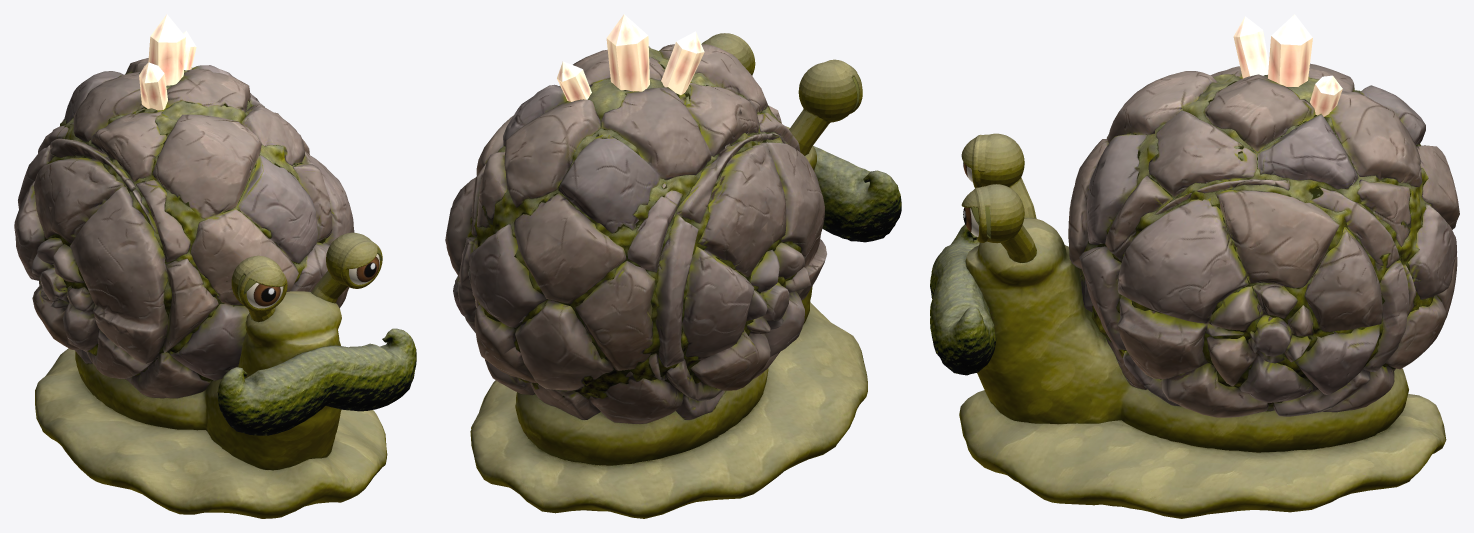
Rendered from rock_snail_mossy.glb.
The picture shows the model from 3 angles, left to right: view 1: azimuth 30°, elevation 25°; view 2: azimuth 150°, elevation 25°; view 3: azimuth 270°, elevation 25°; orthographic projection. The views are drawn at different scales.
Parts seen in each view (by area): view 1: body, soft_body, soft_foot, stalktip_r, stalktip_l; view 2: body, soft_foot, soft_body, stalktip_l, stalktip_r; view 3: body, soft_body, soft_foot, stalktip_r, stalktip_l.
Boxes of the visible parts, x1,y1,x2,y2 form: body: (14, 14, 354, 398); soft_body: (75, 291, 416, 470); soft_foot: (35, 348, 387, 518); stalktip_r: (317, 232, 382, 298); stalktip_l: (231, 255, 287, 316); body: (445, 14, 826, 423); soft_foot: (470, 302, 867, 518); soft_body: (515, 126, 901, 465); stalktip_l: (789, 59, 862, 146); stalktip_r: (701, 33, 755, 75); body: (1068, 14, 1459, 417); soft_body: (930, 218, 1408, 452); soft_foot: (959, 390, 1446, 518); stalktip_r: (961, 184, 1033, 256); stalktip_l: (961, 133, 1032, 208).
Size of the model in its own units: 0.8369 by 1.16 by 1.26.
15 materials, 12 textured.
